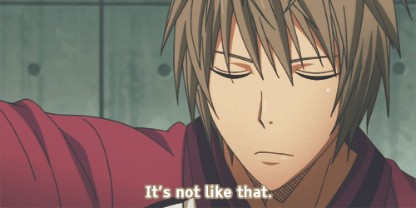闭眼: (293, 56, 344, 85), (207, 51, 251, 84)
